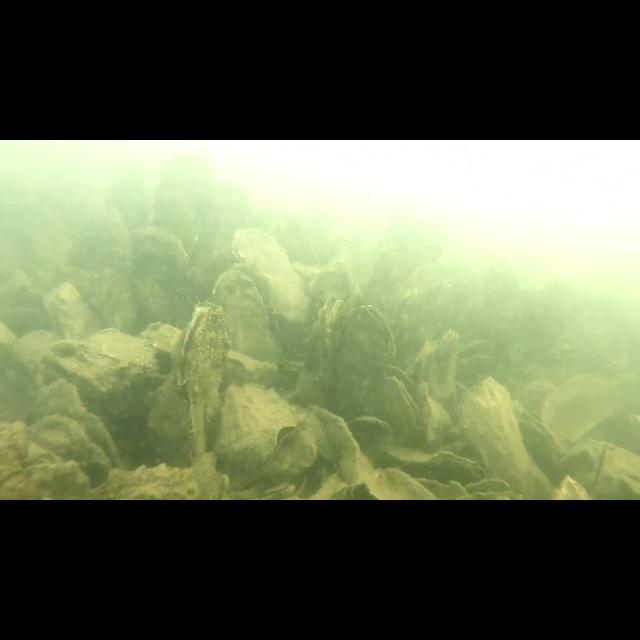Oyster-Closed: (456, 376, 554, 500), (34, 381, 128, 473), (120, 225, 202, 328), (140, 322, 278, 378), (214, 383, 306, 465), (0, 424, 92, 501), (209, 270, 277, 366), (55, 331, 161, 381), (308, 404, 370, 488), (86, 462, 198, 500), (43, 282, 97, 342), (422, 327, 460, 405), (414, 381, 454, 452), (363, 466, 439, 500)
Oyster-Open: (171, 304, 229, 456), (330, 304, 396, 422), (301, 296, 347, 400), (382, 376, 424, 446), (429, 450, 485, 486), (260, 482, 296, 501)
